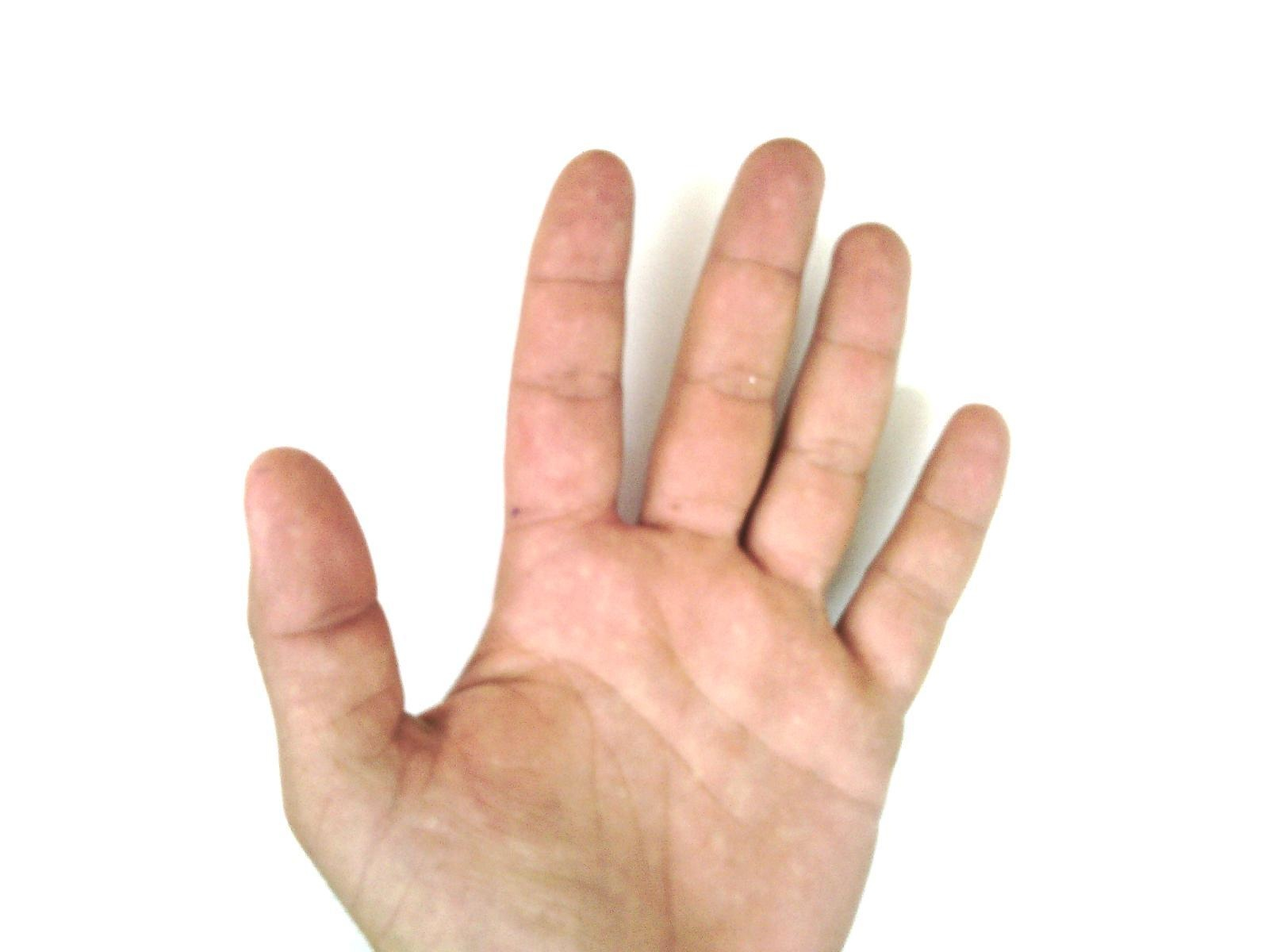open_palm: (240, 136, 1014, 952)
